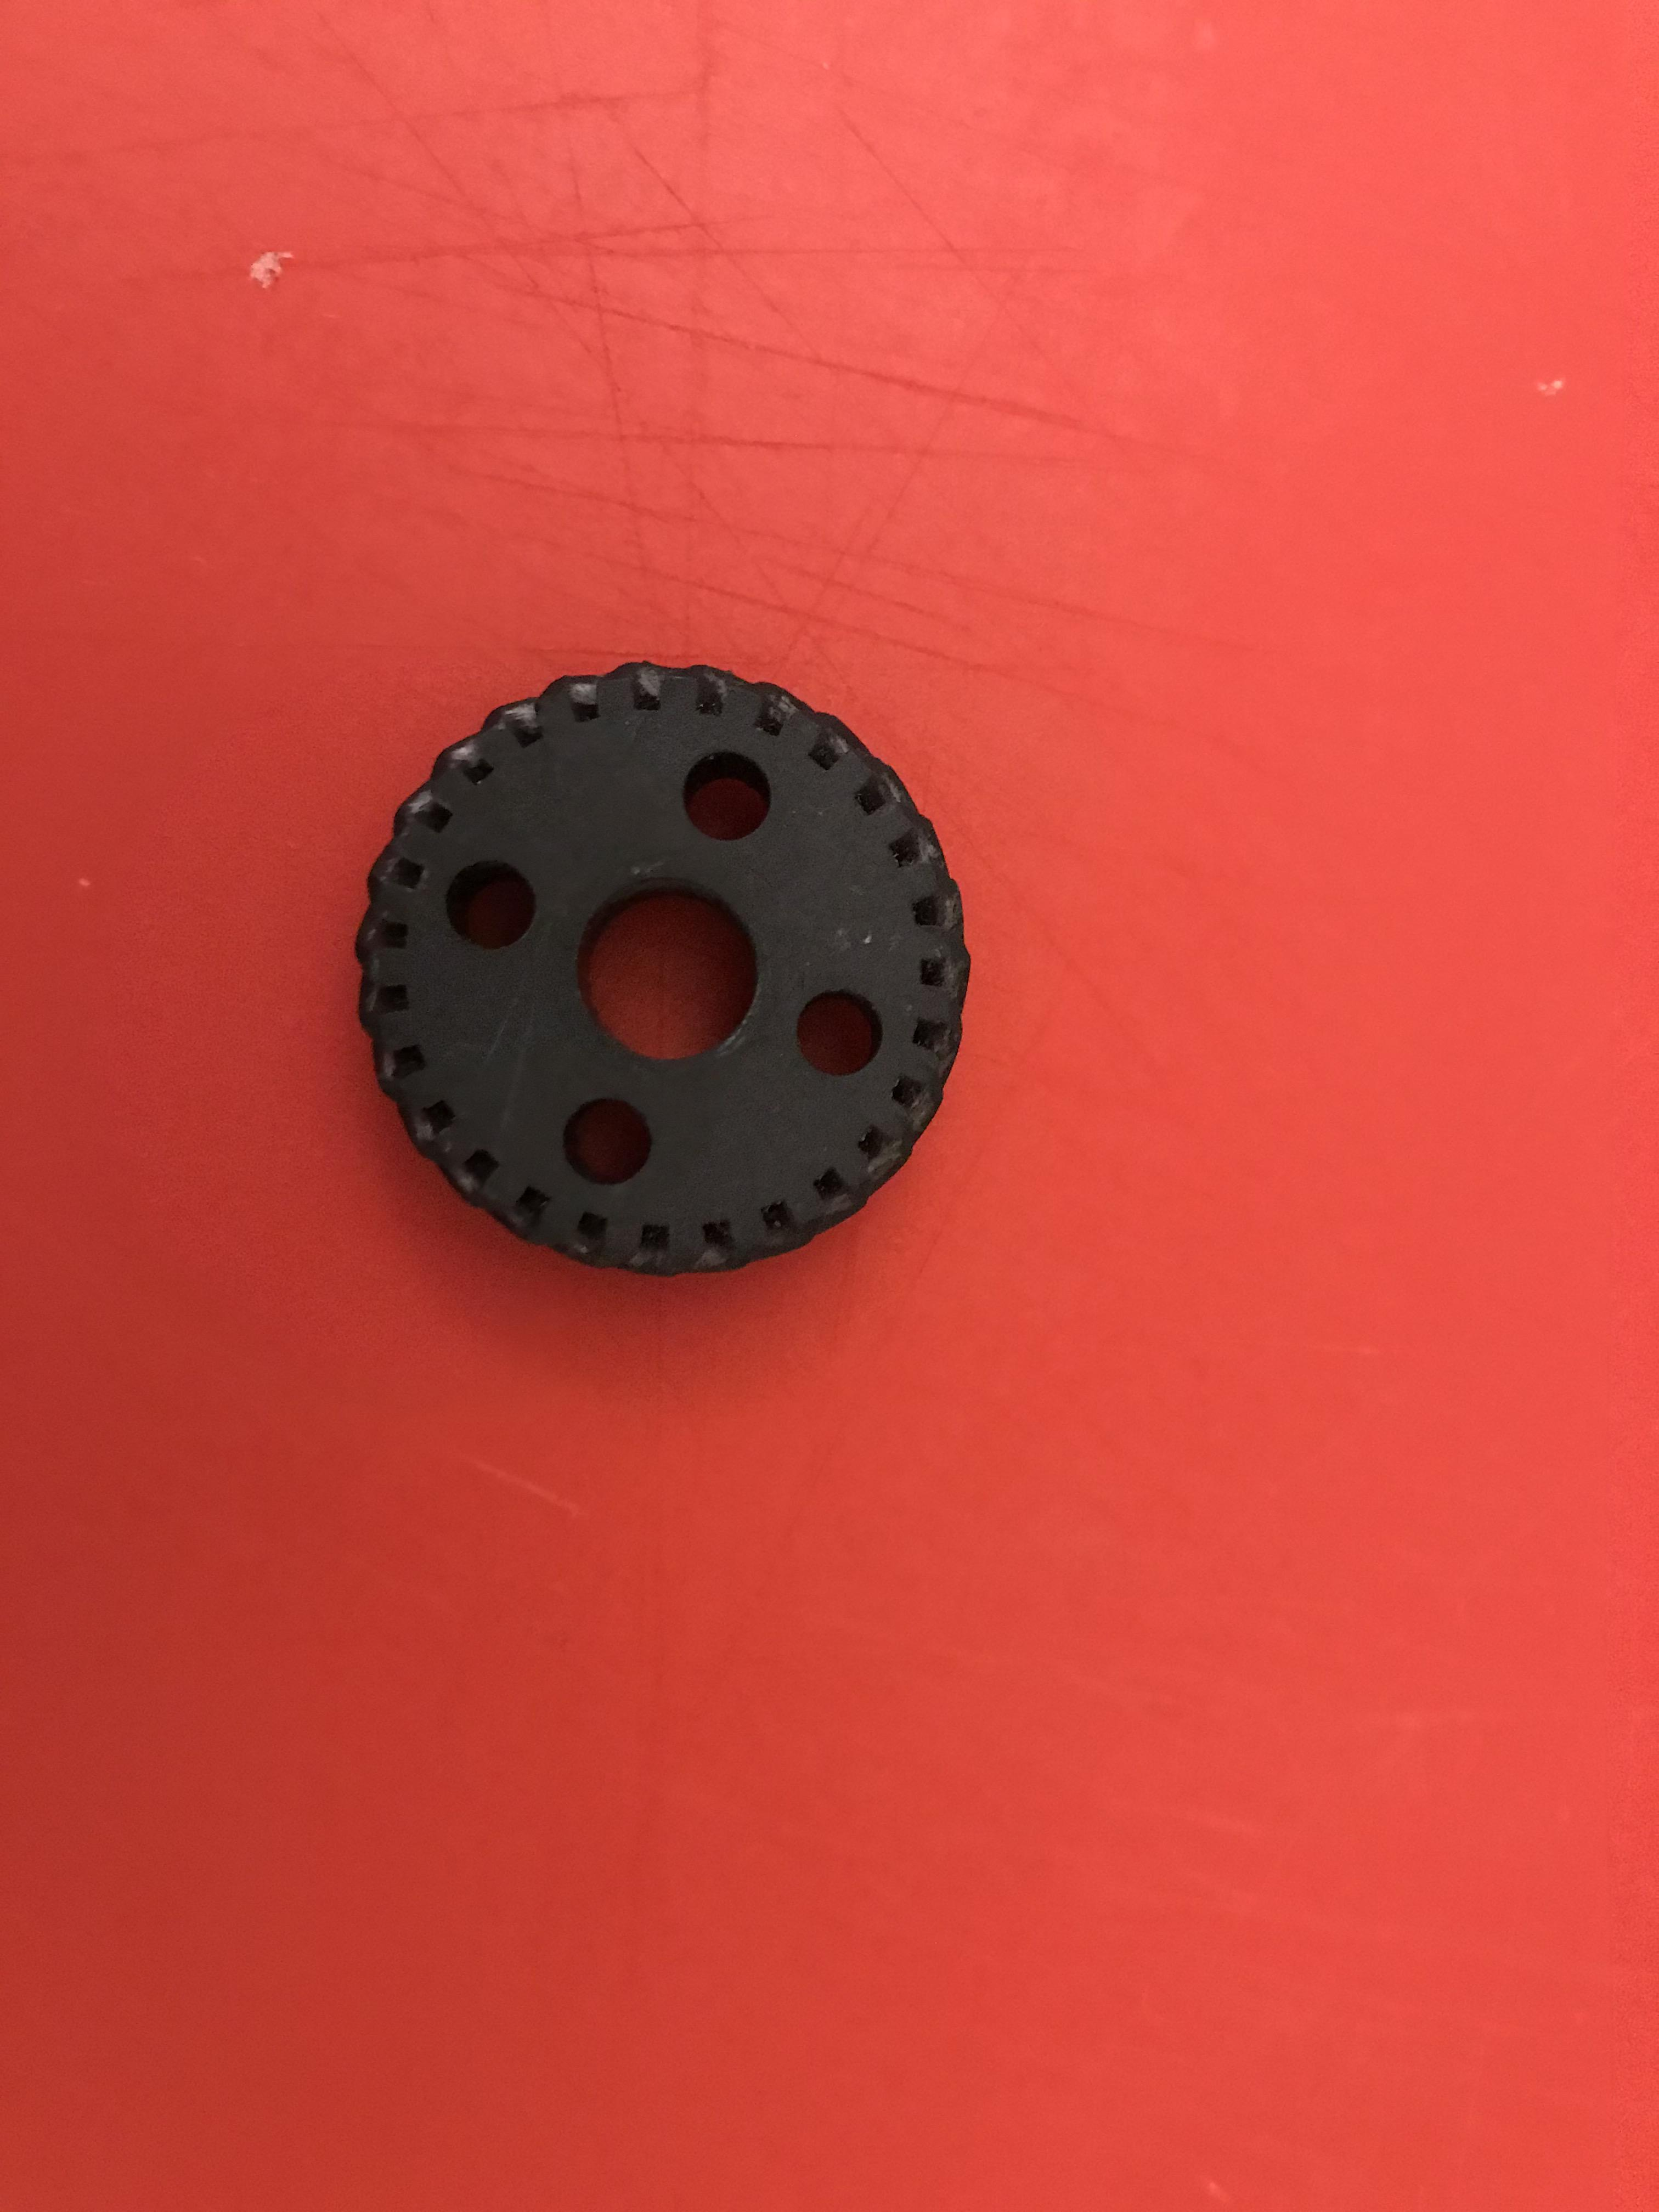Wheel: (345, 650, 972, 1310)
